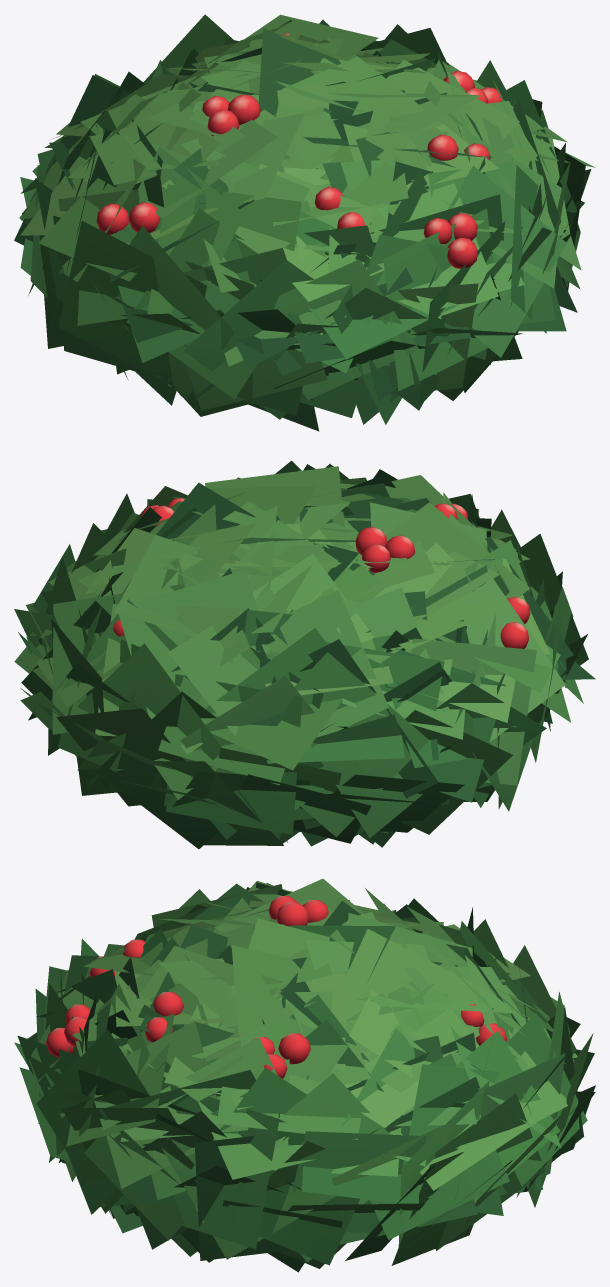
Rendered from tree-village-bush-box-v2.glb.
3 renders of one model, top to bottom at view 1: azimuth 30°, elevation 25°; view 2: azimuth 150°, elevation 25°; view 3: azimuth 270°, elevation 25°, orthographic. The views are drawn at different scales.
Parts seen in each view (by area): view 1: cards_round, berries; view 2: cards_round, berries; view 3: cards_round, berries.
Boxes of the visible parts, <box> form: cards_round: <box>14,14,595,431</box>; berries: <box>96,33,502,268</box>; cards_round: <box>14,460,595,848</box>; berries: <box>113,498,530,648</box>; cards_round: <box>14,878,595,1272</box>; berries: <box>46,896,507,1078</box>.
Bounding box in the file's own units: 1.75 × 0.9486 × 1.77.
